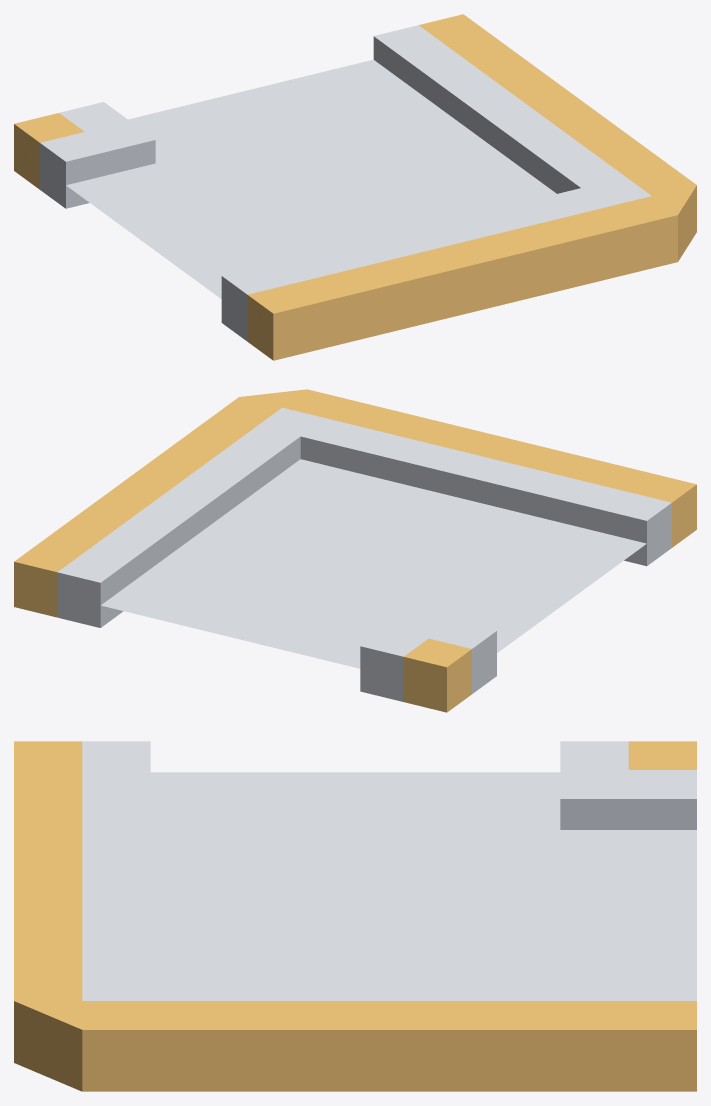
Rendered from platform_corner.glb.
3 renders of one model, top to bottom at view 1: azimuth 30°, elevation 25°; view 2: azimuth 150°, elevation 25°; view 3: azimuth 270°, elevation 25°, orthographic. The views are drawn at different scales.
Parts seen in each view (by area): view 1: platform_corner; view 2: platform_corner; view 3: platform_corner.
Boxes of the visible parts, x1=… form: platform_corner: x1=14, y1=14, x2=696, y2=360; platform_corner: x1=14, y1=389, x2=696, y2=712; platform_corner: x1=14, y1=741, x2=696, y2=1091.
Size of the model in its own units: 1 by 0.1 by 1.
Materials: 1 (1 with a texture image).
